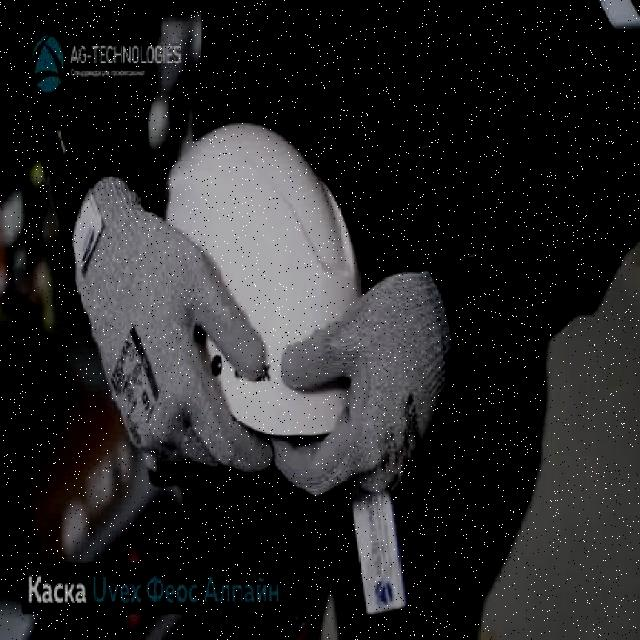Gloves: (68, 172, 274, 474), (272, 264, 454, 498)
Helmet: (149, 116, 363, 442)
